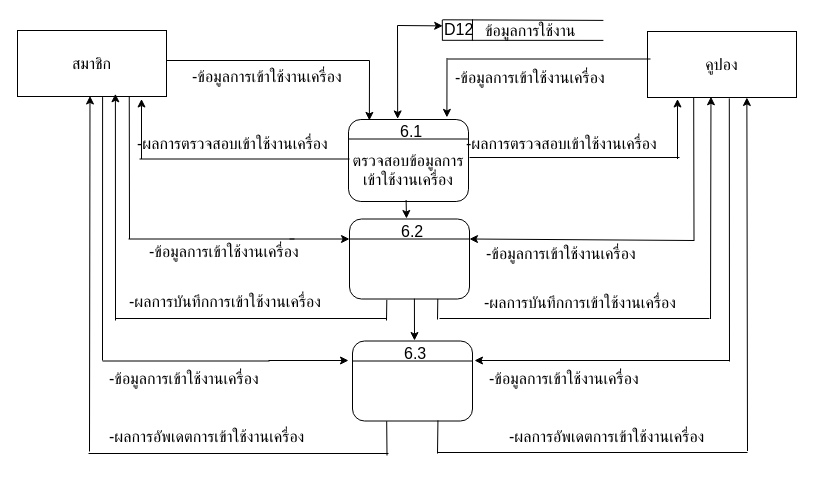
Image size: 814x477. Some labels were removed from this diagram. Here are the shapes that lost their labels. From the top down, the box of each, then its label:
(348, 218, 470, 299): บันทึกการเข้าใช้งานเครื่อง
(352, 340, 472, 421): อัพเดตสถานะการเข้าใช้งานเครื่อง
